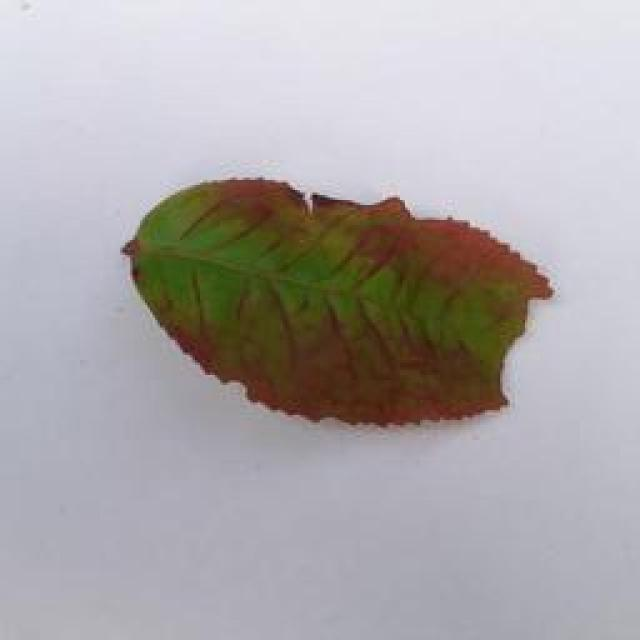Red Leaf Spot: (100, 174, 560, 438)
